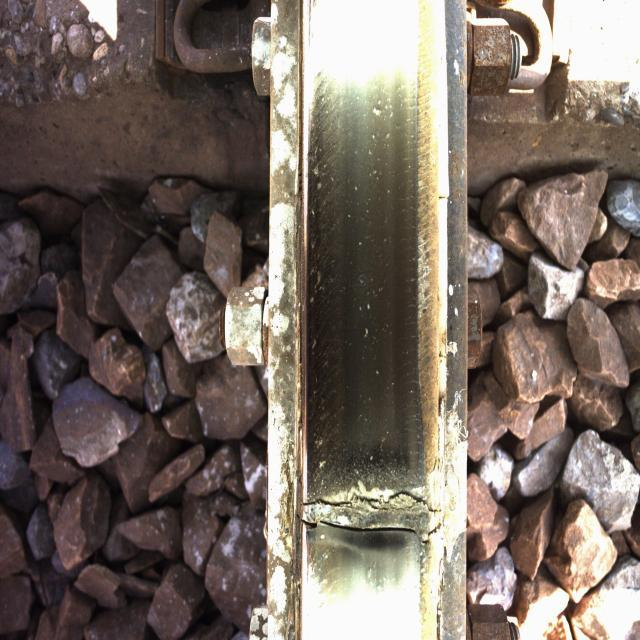spalling: (284, 438, 468, 586)
